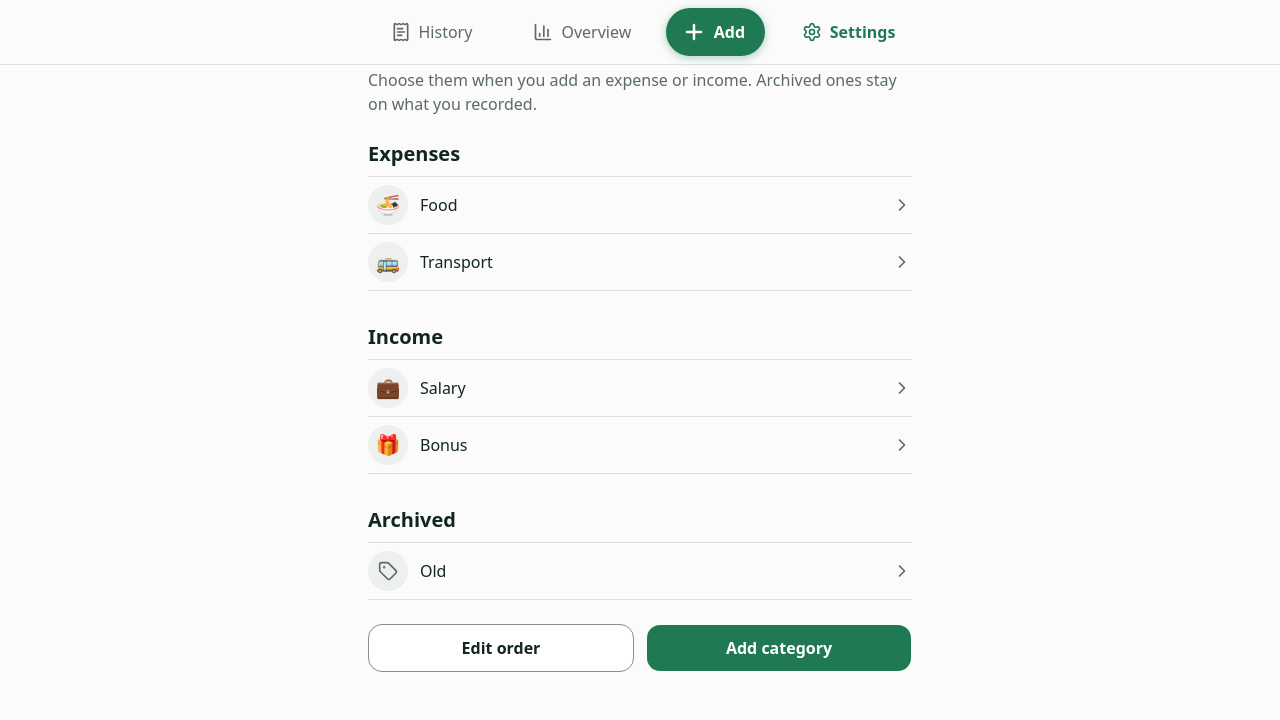
Scenario: Categories › shows the 200 limit for the whole form
(page scrolled)
Click the button "Add category". click: [779, 648]
box: top-left (646, 624), bottom-right (912, 672)
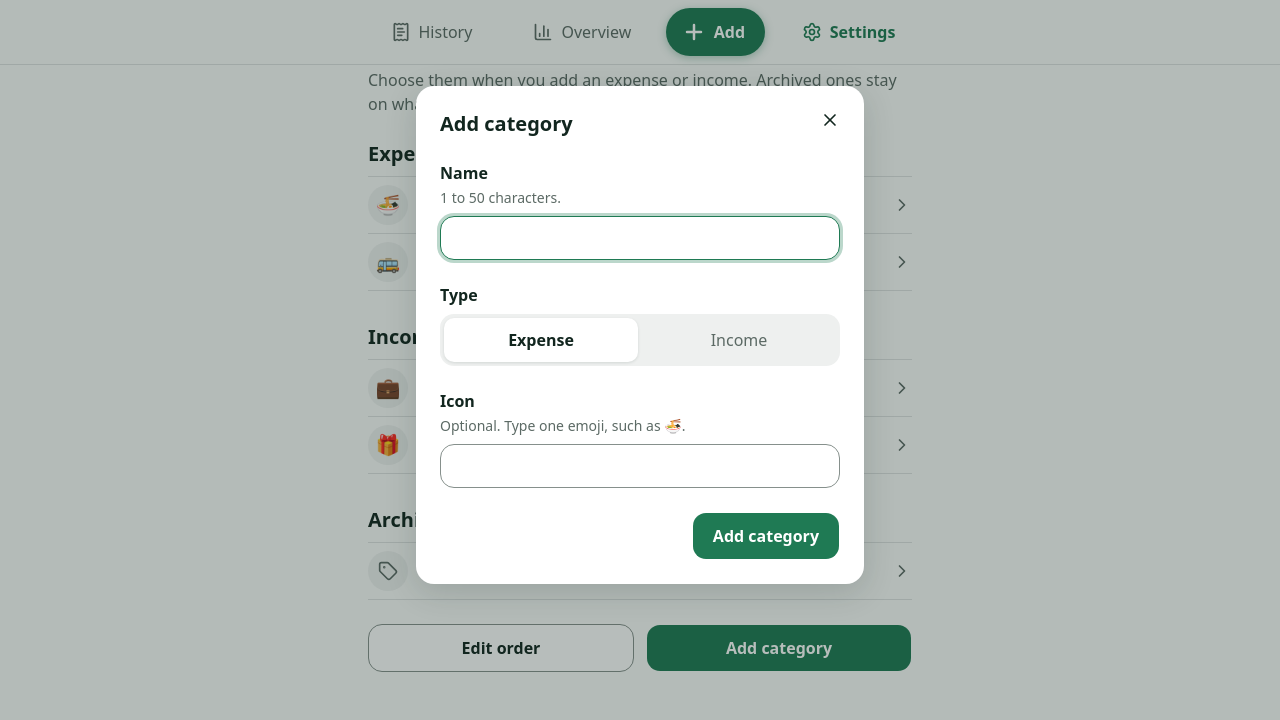
Type "Coffee" into the field labelled "Name". click: [640, 238]
box: top-left (440, 216), bottom-right (840, 260)
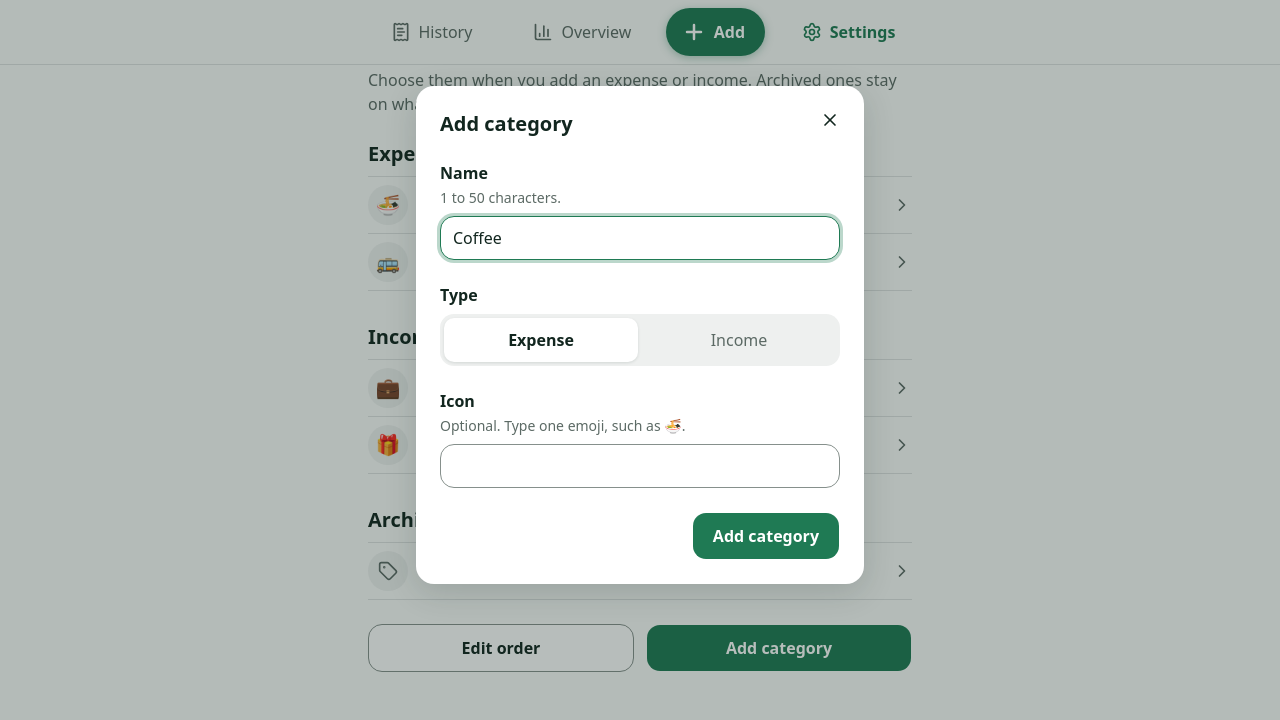
Click the button "Add category". click: [766, 536]
box: top-left (692, 512), bottom-right (840, 560)
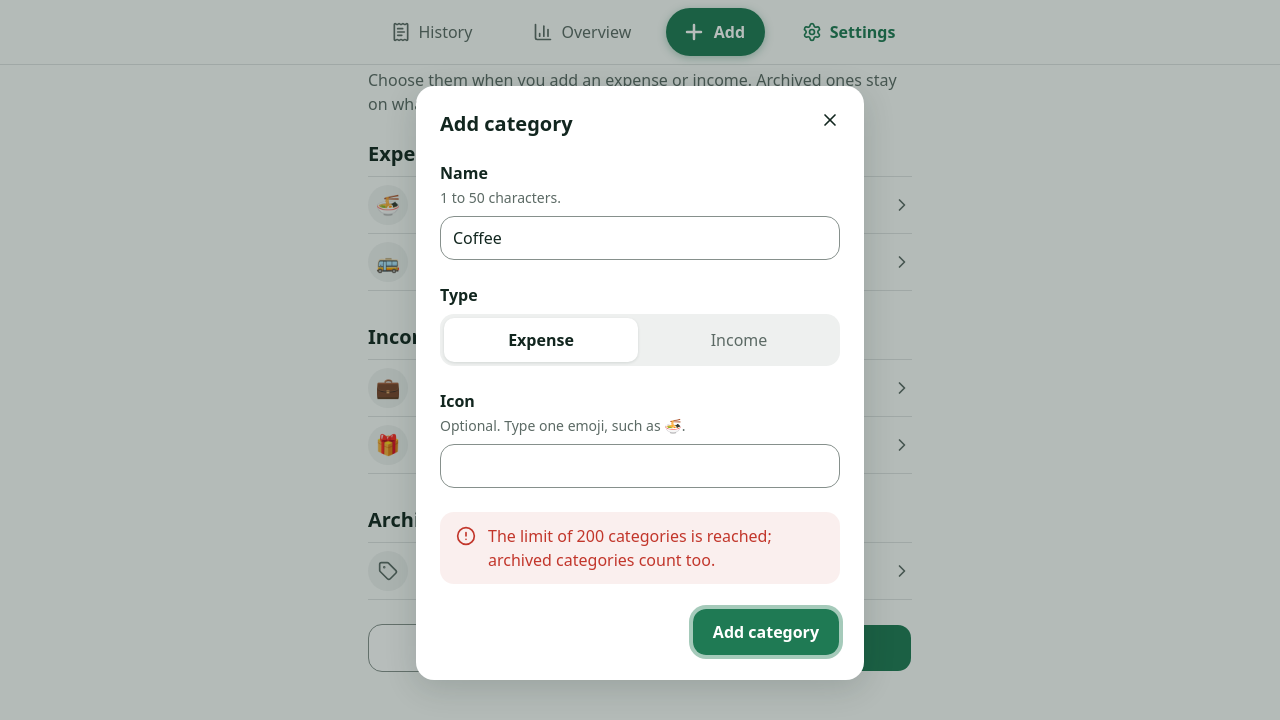
Check: the message shows "The limit of 200 categories is reached", box top-left (488, 525), bottom-right (772, 571)
